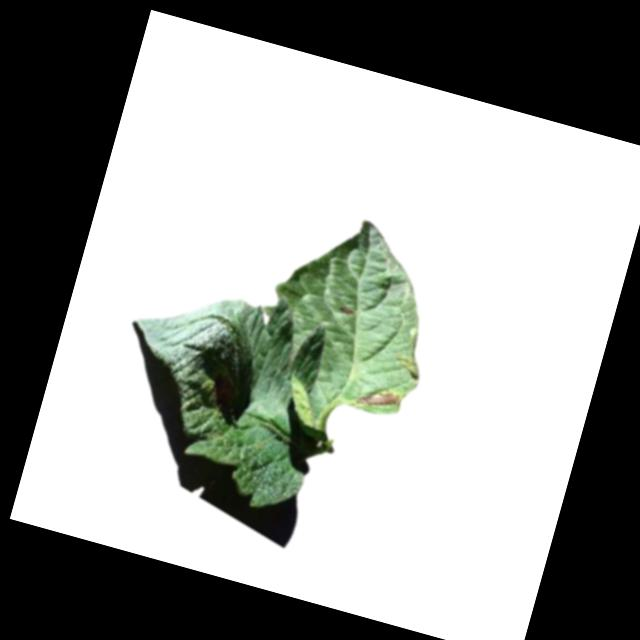Early_blight: (355, 378, 405, 411), (337, 303, 356, 317)
